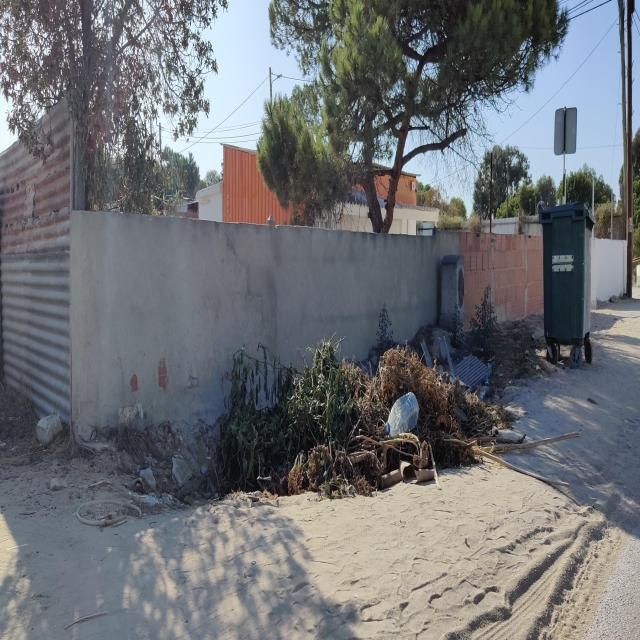litter: (385, 391, 419, 435), (453, 354, 492, 389), (479, 387, 487, 401), (484, 374, 488, 386)
